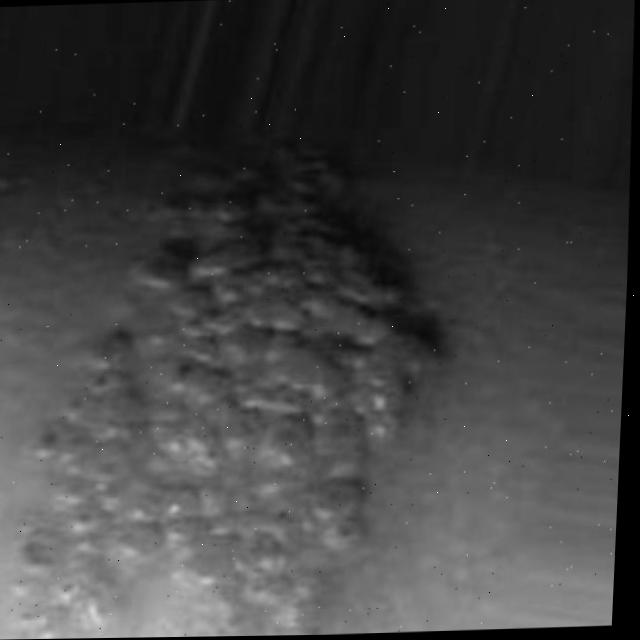Shingles: (0, 138, 456, 640)
